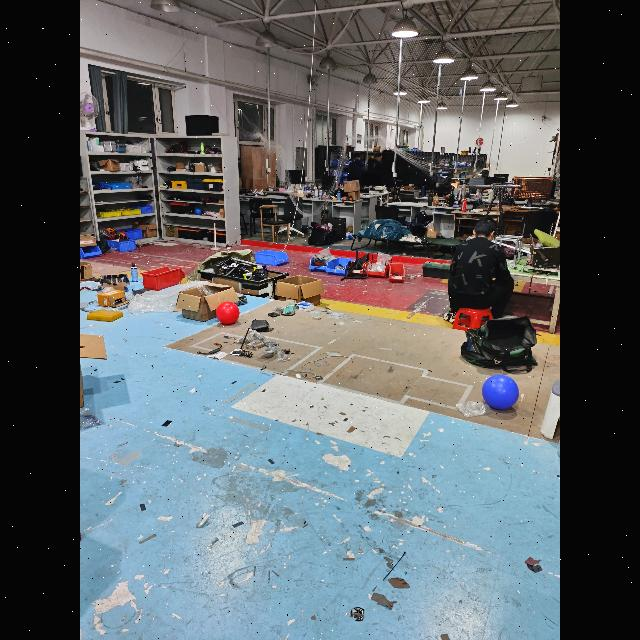B: (483, 374, 519, 412)
R: (217, 302, 240, 324)
